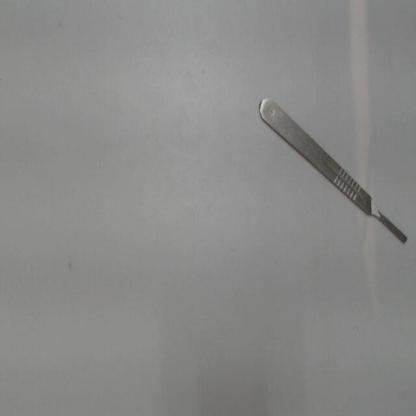No.4 BP Handle: (257, 80, 411, 255)
